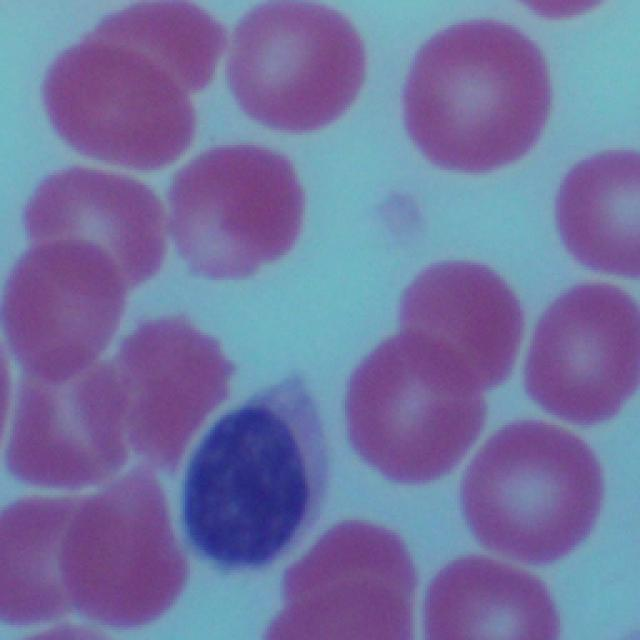RBC: (410, 23, 549, 170), (26, 165, 172, 294), (345, 342, 482, 479), (45, 45, 202, 164), (230, 2, 370, 126), (395, 261, 524, 395), (462, 434, 600, 556), (119, 312, 225, 468), (66, 482, 187, 616), (176, 154, 304, 275), (7, 354, 127, 482), (536, 278, 636, 422), (13, 245, 124, 372), (285, 514, 408, 628), (79, 0, 222, 90), (2, 499, 102, 614), (431, 559, 558, 640), (266, 575, 412, 640), (569, 149, 640, 263)
WBC: (182, 410, 307, 572)
